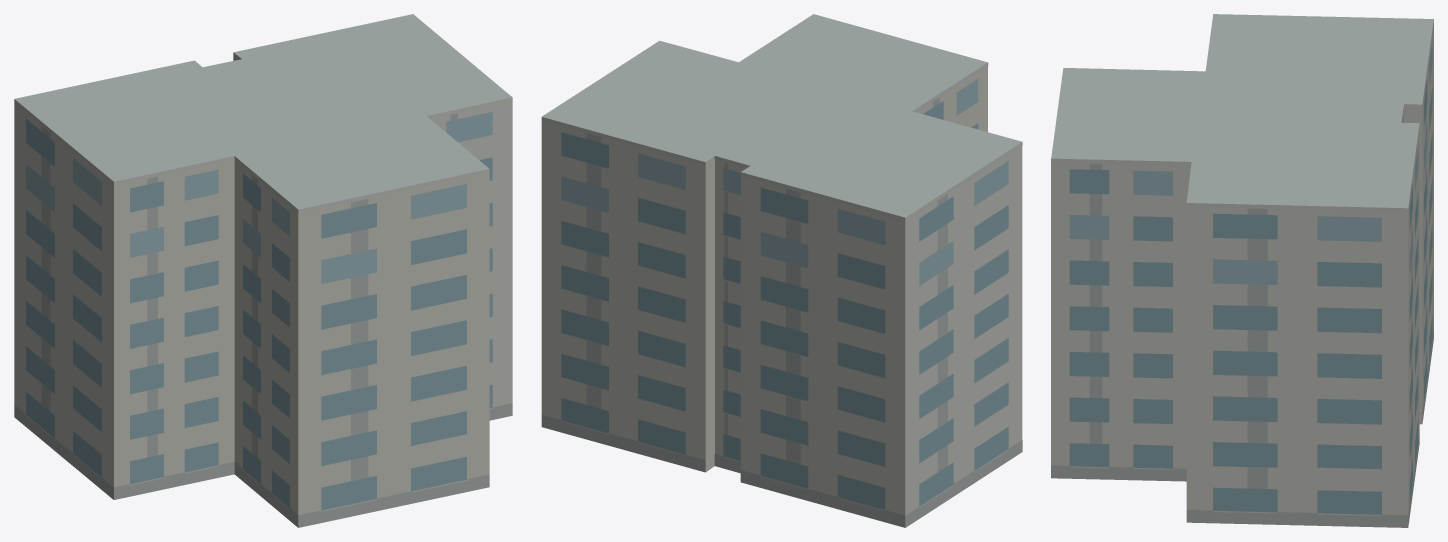
Rendered from survey-upis-32929587.glb.
3 renders of one model, left to right at view 1: azimuth 30°, elevation 25°; view 2: azimuth 150°, elevation 25°; view 3: azimuth 270°, elevation 25°, orthographic. The views are drawn at different scales.
Parts seen in each view (by area): view 1: survey-upis-32929587.tmp; view 2: survey-upis-32929587.tmp; view 3: survey-upis-32929587.tmp.
Part boxes in pixels (bbox=[...]): survey-upis-32929587.tmp: bbox=[14, 14, 512, 527]; survey-upis-32929587.tmp: bbox=[541, 14, 1022, 527]; survey-upis-32929587.tmp: bbox=[1051, 14, 1433, 527].
Size of the model in its own units: 25.09 by 19.25 by 20.9.
